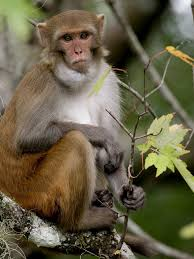monkey: (11, 4, 155, 251)
